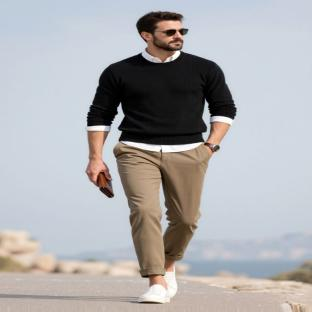Human: (86, 12, 236, 302)
